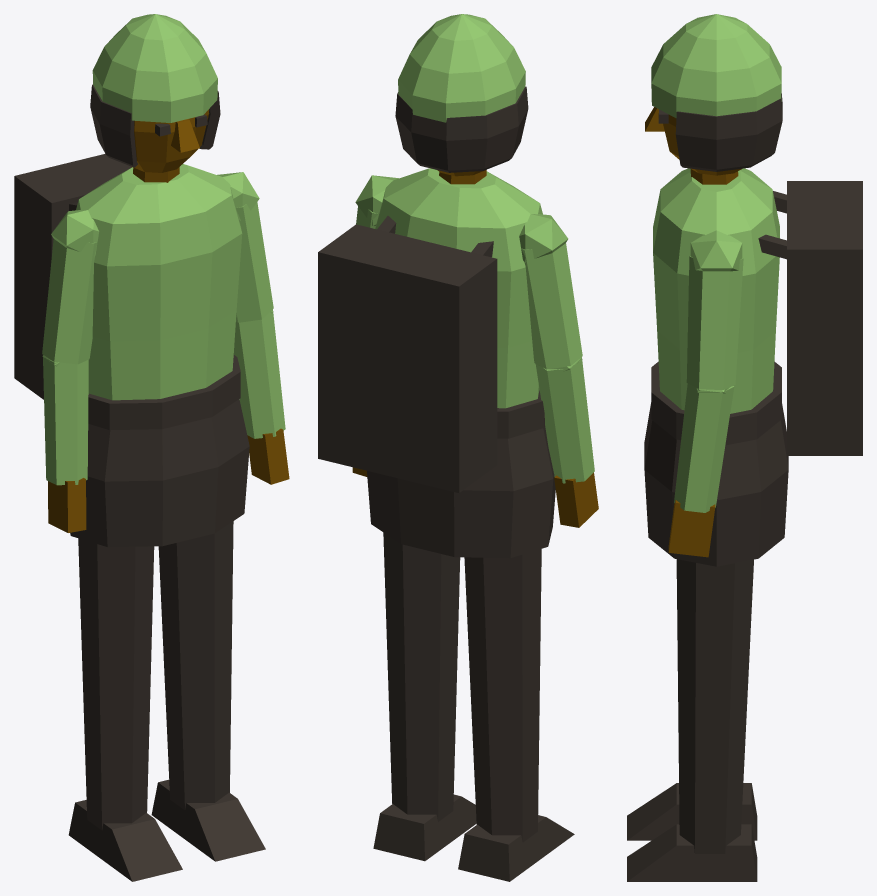
3 renders of one model, left to right at view 1: azimuth 30°, elevation 25°; view 2: azimuth 150°, elevation 25°; view 3: azimuth 270°, elevation 25°, orthographic. The views are drawn at different scales.
Parts seen in each view (by area): view 1: teo; view 2: teo; view 3: teo.
Part boxes in pixels (bbox=[...]): teo: bbox=[14, 14, 289, 881]; teo: bbox=[318, 14, 598, 881]; teo: bbox=[627, 14, 862, 881].
Bounding box in the file's own units: 0.4978 × 1.7 × 0.435.
